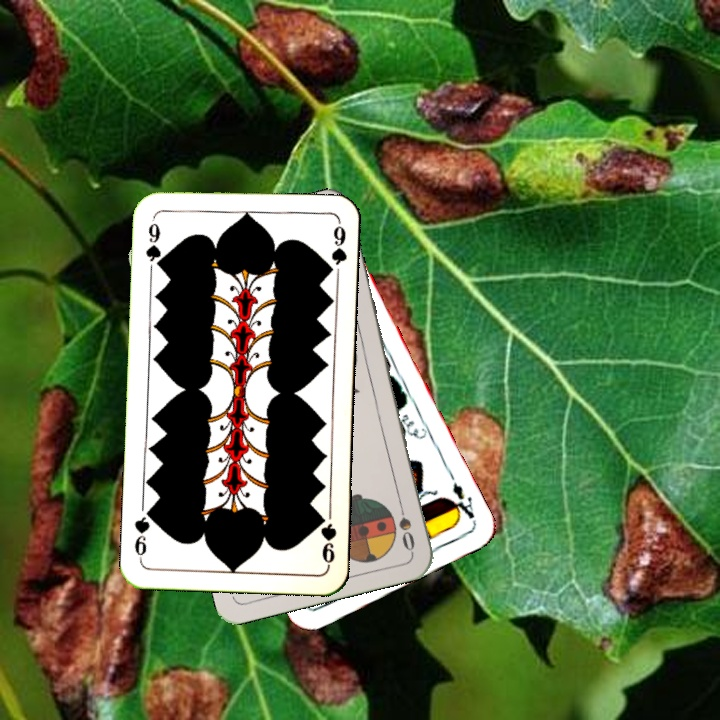EA: (444, 478, 478, 524)
G9: (314, 510, 339, 569), (142, 214, 165, 273)
SO: (394, 495, 418, 554)
